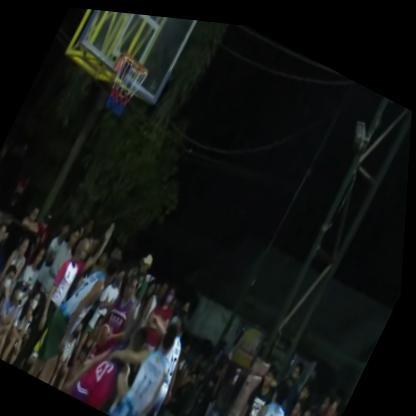basketball: (94, 316, 118, 351)
rim: (95, 45, 154, 127)
